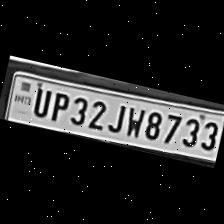2: (84, 96, 110, 132)
3: (177, 113, 202, 150), (197, 116, 222, 153), (65, 92, 90, 126)
7: (160, 110, 182, 146)
8: (138, 106, 164, 142)
J: (104, 99, 128, 135)
P: (46, 88, 72, 124)
U: (28, 83, 53, 118)
W: (121, 103, 146, 139)
